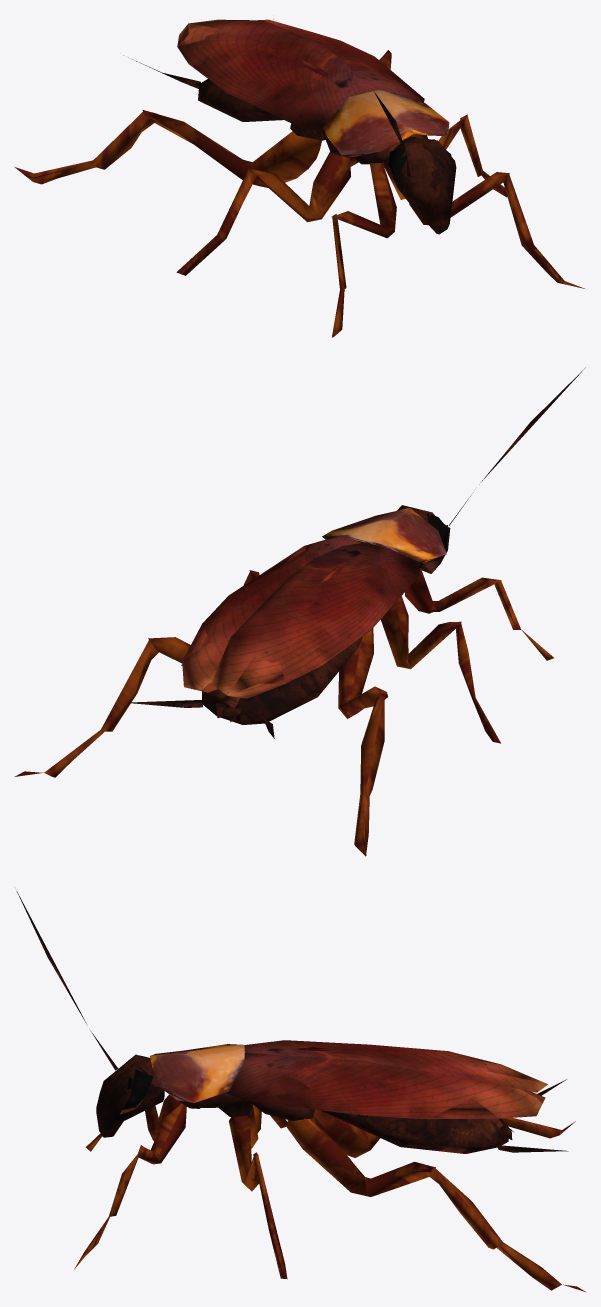
File: cockroach_low.glb
The picture shows the model from 3 angles, top to bottom: view 1: azimuth 30°, elevation 25°; view 2: azimuth 150°, elevation 25°; view 3: azimuth 270°, elevation 25°; orthographic projection. The views are drawn at different scales.
Visible parts, largest first — view 1: Cockroach; view 2: Cockroach; view 3: Cockroach.
Boxes of the visible parts, <box> form: Cockroach: <box>15,19,584,337</box>; Cockroach: <box>14,367,585,856</box>; Cockroach: <box>16,891,585,1291</box>.
Size of the model in its own units: 1.93 by 1.47 by 2.76.
Materials: 1 (1 with a texture image).
